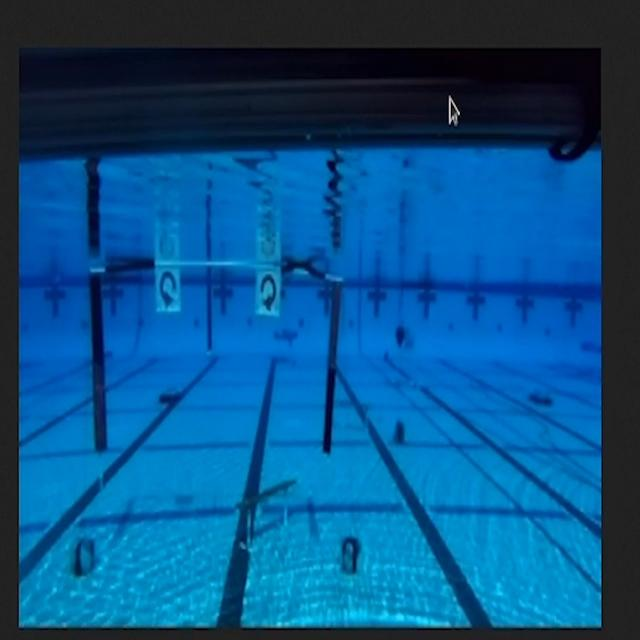Gate: (82, 256, 350, 461)
